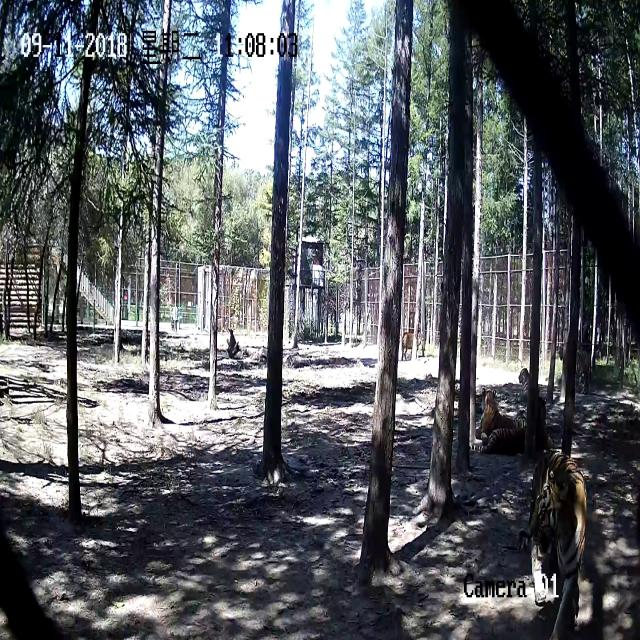Tiger: (522, 444, 592, 639), (471, 388, 524, 452), (556, 340, 598, 391), (511, 368, 536, 404), (400, 328, 429, 357)
